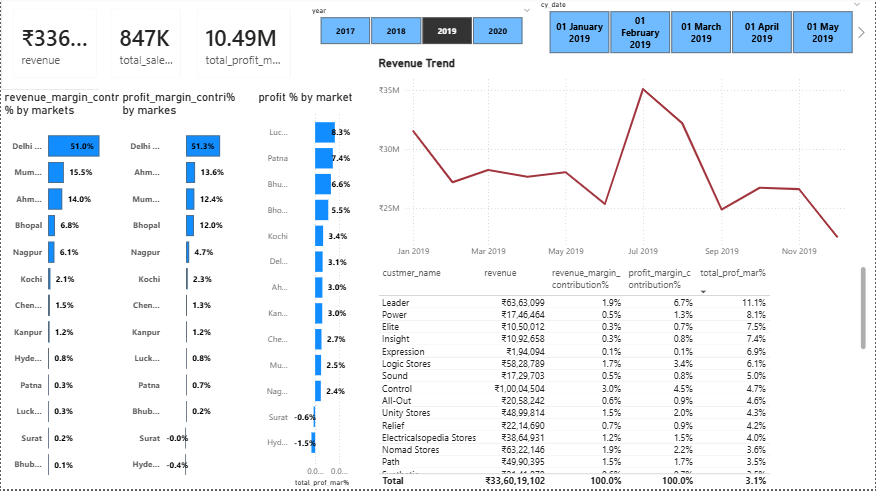

Layout of this report page (visuals, bound fields, positions):
{"tool":"powerbi","page":{"name":"Profit Margin ","canvas":[1280,720],"ordinal":1},"visuals":[{"type":"cardVisual","fields":{"Data":["sales customers.revenue"]},"box":[0,0,157.1,135.7],"z":0},{"type":"cardVisual","fields":{"Data":["sales customers.total_sales_quantity"]},"box":[143.4,0,137.6,136.1],"z":1000},{"type":"barChart","title":"profit % by market","fields":{"Category":["sales markets.markets_name"],"Y":["sales customers.total_prof_mar%"]},"box":[371.2,136.1,176.4,584.6],"z":2000},{"type":"barChart","title":"revenue_margin_contri% by markets","fields":{"Category":["sales markets.markets_name"],"Y":["sales customers.revenue_margin_contribution%"]},"box":[0,136.1,183.1,584.6],"z":3000},{"type":"tableEx","title":"top 5 cust name by revenue","fields":{"Values":["sales customers.custmer_name","sales customers.revenue","sales customers.revenue_margin_contribution%","sales customers.profit_margin_contribution%","sales customers.total_prof_mar%"]},"box":[547.6,389.7,724,330.9],"z":4000},{"type":"slicer","fields":{"Values":["sales date.year"]},"box":[442,8.8,345.4,67.3],"z":5000},{"type":"slicer","fields":{"Values":["sales date.cy_date"]},"box":[777.1,0,493.2,84.9],"z":6000},{"type":"lineChart","title":"Revenue Trend","fields":{"Y":["sales customers.revenue"],"Category":["sales date.cy_date.Variation.Date Hierarchy.Year","sales date.cy_date.Variation.Date Hierarchy.Quarter","sales date.cy_date.Variation.Date Hierarchy.Month","sales date.cy_date.Variation.Date Hierarchy.Day"]},"box":[547.6,85.7,707.2,304],"z":7000},{"type":"cardVisual","fields":{"Data":["sales customers.total_profit_margin"]},"box":[269.3,0,172.7,136.1],"z":8000},{"type":"barChart","title":"profit_margin_contri% by markes","fields":{"Category":["sales markets.markets_name"],"Y":["sales customers.profit_margin_contribution%"]},"box":[173,136.1,183.1,584.6],"z":9000}]}

Visuals, with their boxes in screenshot pixels (x1, y1, x2, y2), scaled from the page's 1280x720 canvas onto the 876x491 screenshot:
cardVisual - sales customers.revenue: (0, 0, 108, 93)
cardVisual - sales customers.total_sales_quantity: (98, 0, 192, 93)
"profit % by market" barChart: (254, 93, 375, 490)
"revenue_margin_contri% by markets" barChart: (0, 93, 125, 490)
"top 5 cust name by revenue" tableEx: (375, 266, 870, 490)
slicer - sales date.year: (302, 6, 539, 52)
slicer - sales date.cy_date: (532, 0, 869, 58)
"Revenue Trend" lineChart: (375, 58, 859, 266)
cardVisual - sales customers.total_profit_margin: (184, 0, 302, 93)
"profit_margin_contri% by markes" barChart: (118, 93, 244, 490)
